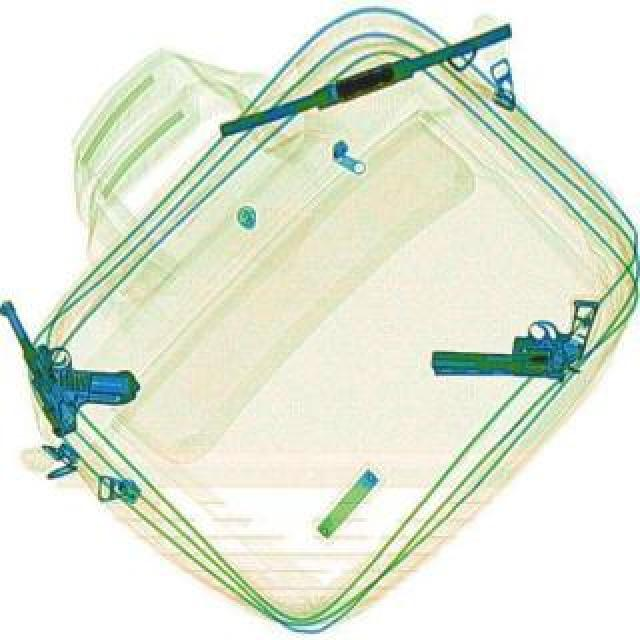gun: (0, 264, 152, 440), (434, 296, 604, 382)
